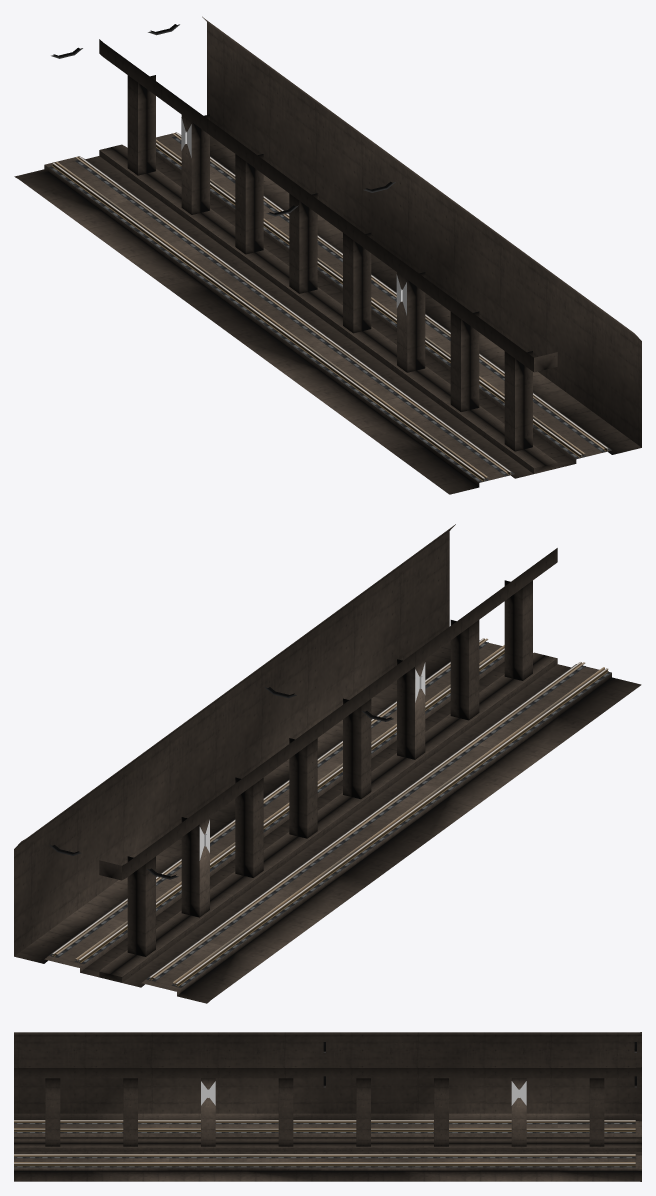
The model's file is MEI_2RAIL_CHIKA100.glb.
3 renders of one model, top to bottom at view 1: azimuth 30°, elevation 25°; view 2: azimuth 150°, elevation 25°; view 3: azimuth 270°, elevation 25°, orthographic. The views are drawn at different scales.
Parts seen in each view (by area): view 1: obj11, obj1, obj6, obj8, LG_R, obj7, obj9, obj2, obj4, obj5, LG_L; view 2: obj11, obj6, obj1, obj8, LG_R, obj7, obj5, obj4, obj2, obj9, LG_L; view 3: obj11, LG_L, LG_R, obj6, obj1, obj9, obj2, obj8, obj7, obj5, obj4.
Part boxes in pixels (x1,y1,x2,y2): obj11: (14,16,641,494); obj1: (51,24,179,175); obj6: (266,181,395,333); obj8: (450,311,479,411); LG_R: (55,139,584,479); obj7: (396,272,425,372); obj9: (504,351,532,451); obj2: (181,114,209,214); obj4: (235,154,263,254); obj5: (289,193,317,293); LG_L: (75,133,604,472); obj11: (14,524,641,1003); obj6: (265,687,393,799); obj1: (49,845,178,956); obj8: (450,620,479,720); LG_R: (75,645,604,984); obj7: (397,659,425,759); obj5: (289,738,317,838); obj4: (235,777,263,877); obj2: (181,817,209,917); obj9: (504,580,532,680); LG_L: (55,638,585,979); obj11: (14,1032,641,1181); LG_L: (14,1128,635,1163); LG_R: (14,1121,635,1156); obj6: (278,1042,325,1146); obj1: (589,1042,636,1146); obj9: (45,1078,60,1146); obj2: (511,1078,526,1146); obj8: (123,1078,137,1146); obj7: (201,1078,215,1146); obj5: (356,1078,370,1146); obj4: (434,1078,448,1146).
Size of the model in its own units: 25.88 by 15 by 101.
23 materials, 22 textured.
